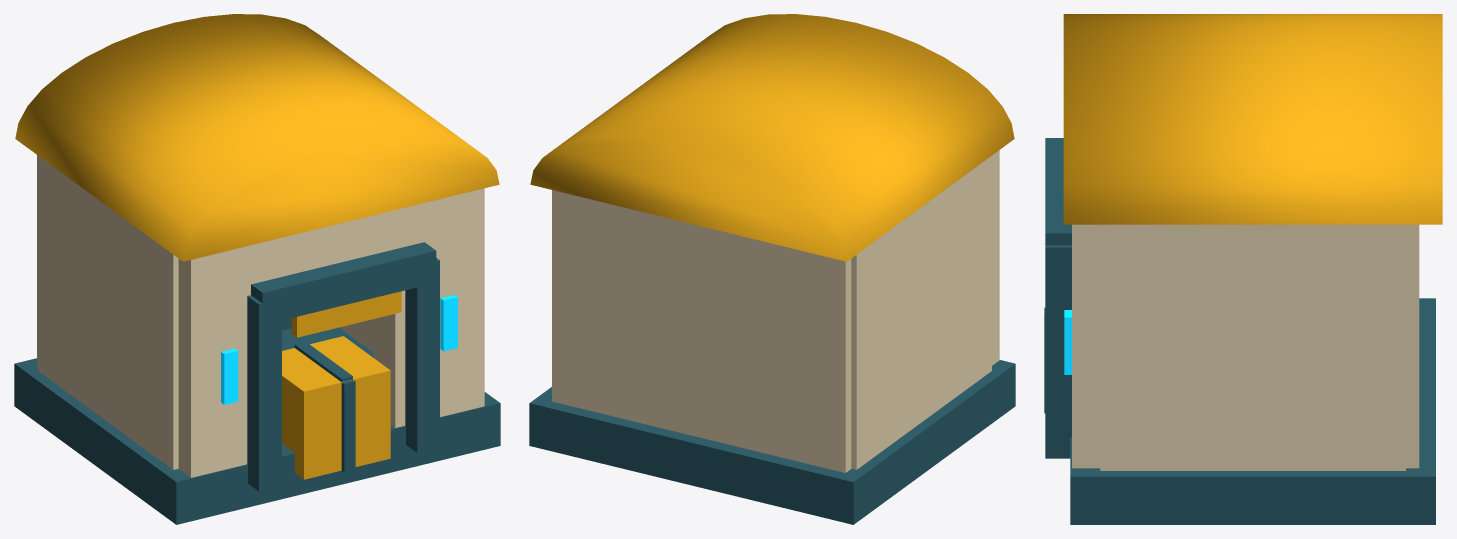
File: storage.glb
The picture shows the model from 3 angles, left to right: view 1: azimuth 30°, elevation 25°; view 2: azimuth 150°, elevation 25°; view 3: azimuth 270°, elevation 25°; orthographic projection. The views are drawn at different scales.
Parts seen in each view (by area): view 1: Curved golden roof, Storage left wall, Storage foundation, Storage front left, Storage front right, Cargo, Door frame header, Door jamb, Door jamb.001, Storage front lintel, Door top shutter, Cargo strap (+4 smaller); view 2: Curved golden roof, Storage back wall, Storage left wall, Storage foundation, Storage front left; view 3: Curved golden roof, Storage right wall, Storage foundation, Storage front right, Door jamb.001, Storage back wall, Door frame header, Storage indicator.001.
Part boxes in pixels (left/top/right/bottom): Curved golden roof: left=15, top=14, right=499, bottom=261; Storage left wall: left=38, top=156, right=178, bottom=469; Storage foundation: left=14, top=327, right=500, bottom=524; Storage front left: left=178, top=238, right=280, bottom=477; Storage front right: left=373, top=188, right=484, bottom=427; Cargo: left=282, top=336, right=390, bottom=479; Door frame header: left=251, top=242, right=436, bottom=324; Door jamb: left=247, top=295, right=281, bottom=491; Door jamb.001: left=405, top=258, right=439, bottom=452; Storage front lintel: left=280, top=205, right=416, bottom=277; Door top shutter: left=291, top=291, right=401, bottom=337; Cargo strap: left=341, top=380, right=355, bottom=472; Curved golden roof: left=530, top=14, right=1014, bottom=261; Storage back wall: left=552, top=190, right=851, bottom=472; Storage left wall: left=851, top=156, right=991, bottom=469; Storage foundation: left=529, top=360, right=1015, bottom=524; Storage front left: left=992, top=150, right=999, bottom=365; Curved golden roof: left=1063, top=14, right=1442, bottom=224; Storage right wall: left=1100, top=224, right=1405, bottom=470; Storage foundation: left=1070, top=298, right=1435, bottom=524; Storage front right: left=1072, top=224, right=1100, bottom=468; Door jamb.001: left=1045, top=245, right=1071, bottom=458; Storage back wall: left=1406, top=224, right=1419, bottom=468; Door frame header: left=1045, top=138, right=1071, bottom=245; Storage indicator.001: left=1064, top=310, right=1071, bottom=374.
Bounding box in the file's own units: 1.27 × 1.28 × 1.2.
